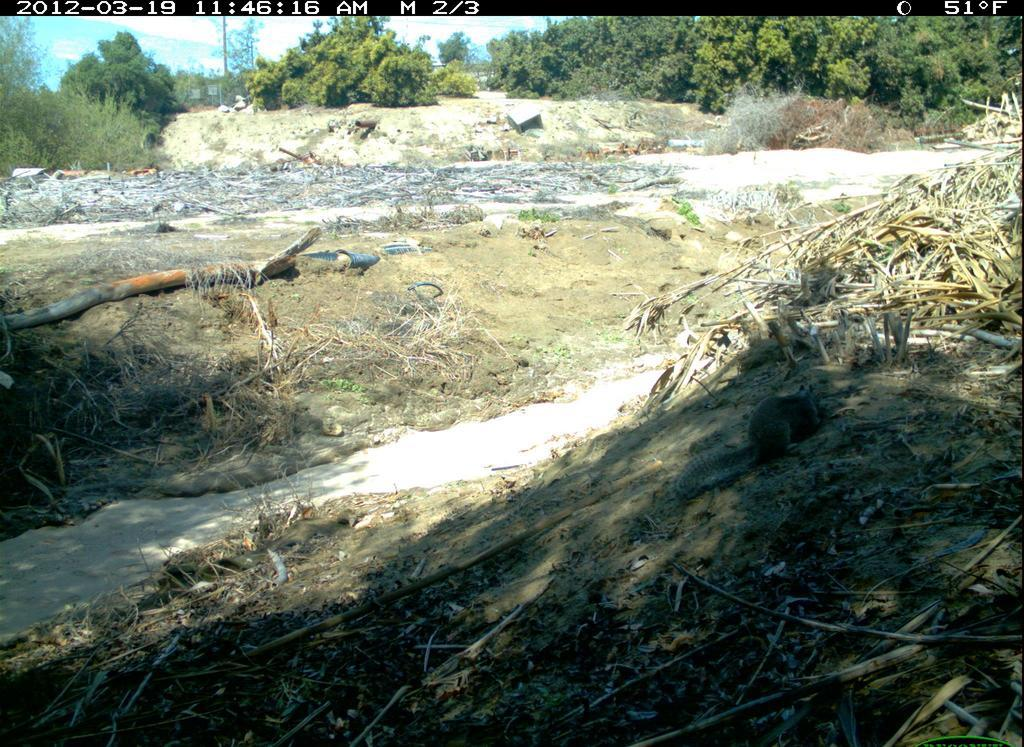squirrel: (666, 369, 826, 509)
